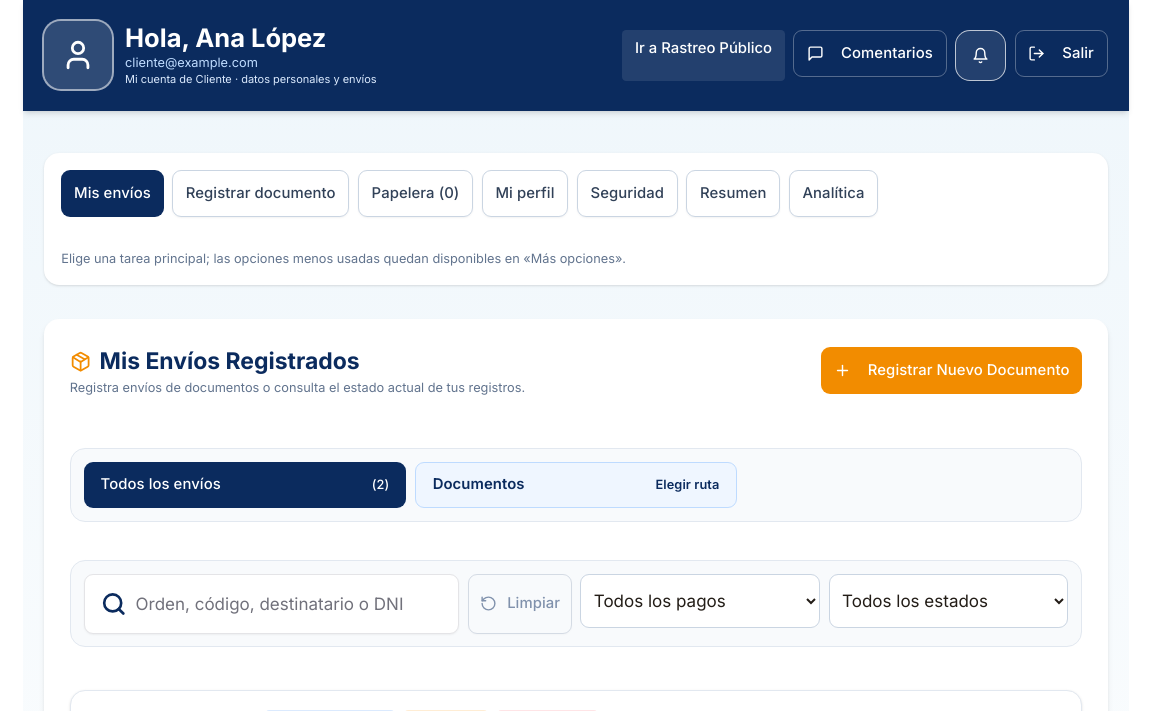
Test: AccountPage client labels › explica la búsqueda de envíos y acepta coincidencias difusas del destinatario
Type "sanches" into the field named "Buscar mis envíos" at coordinates (271, 604), box [84,574,459,634]
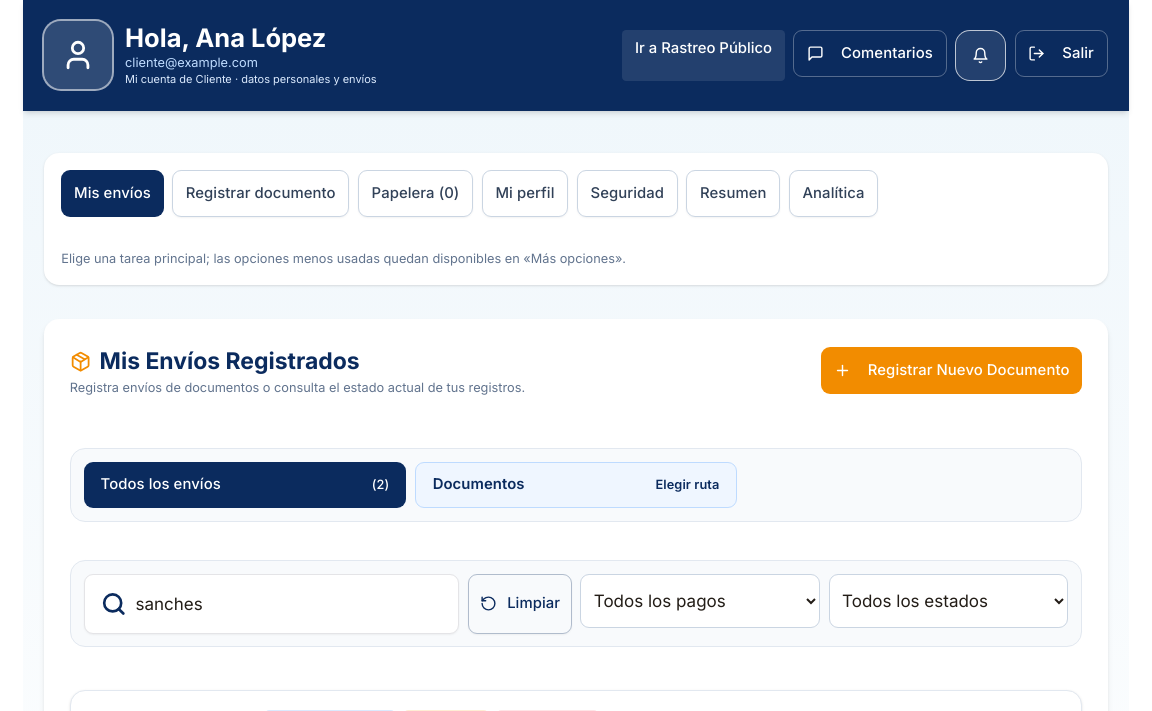
Click the button "Limpiar" at coordinates (520, 604), box [468,574,572,634]
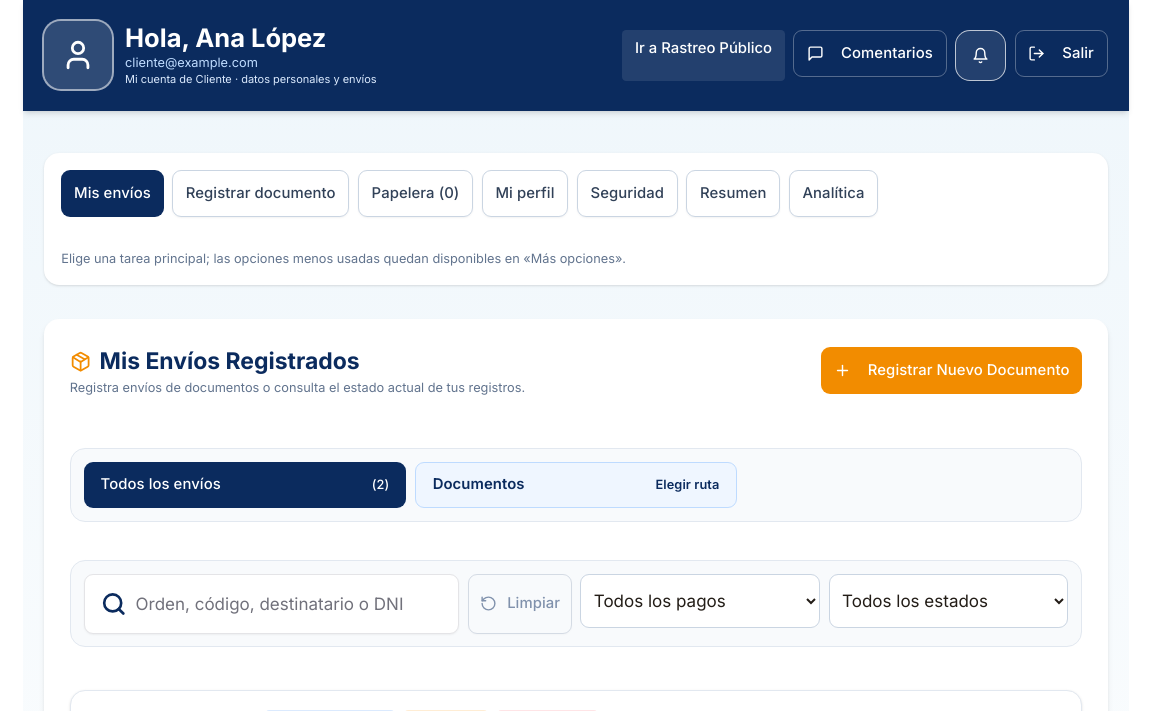
Now the field named "Buscar mis envíos" is empty, box [84,574,459,634]
